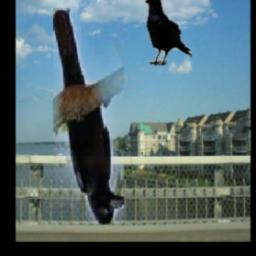Crow: (54, 8, 125, 224), (144, 0, 193, 66)
